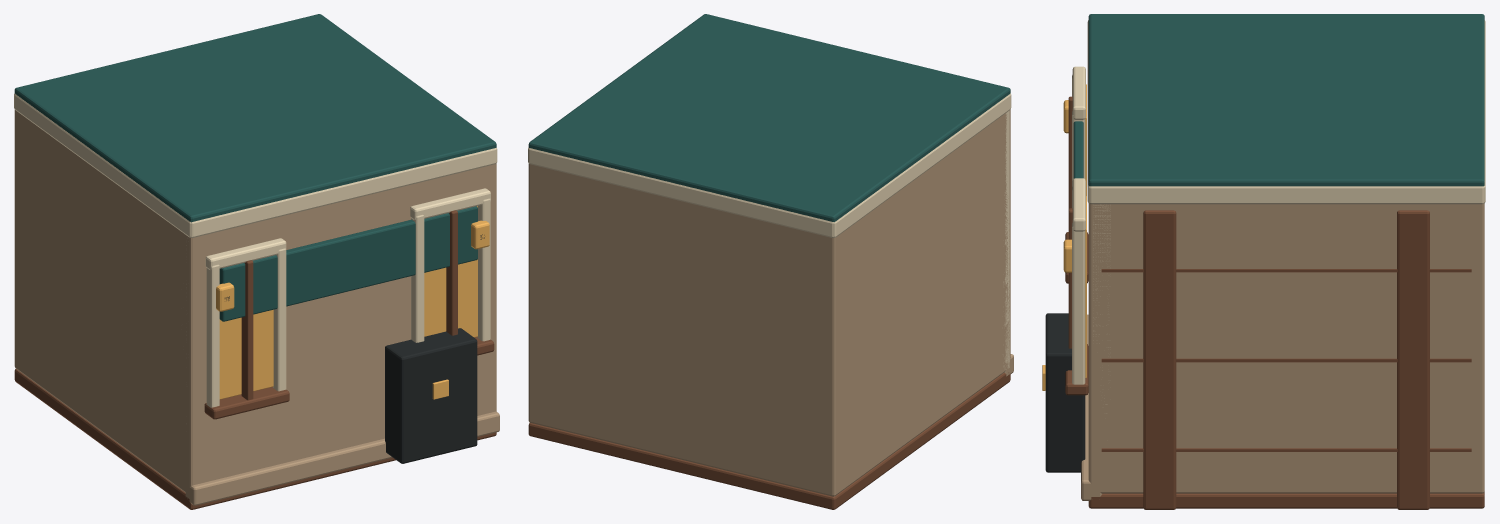
Rendered from NQ-BLD-12.glb.
The picture shows the model from 3 angles, left to right: view 1: azimuth 30°, elevation 25°; view 2: azimuth 150°, elevation 25°; view 3: azimuth 270°, elevation 25°; orthographic projection. The views are drawn at different scales.
Parts seen in each view (by area): view 1: ClosedSupportingVolume, Roof_RemoveForInteriorReview, NQ-SGN-12, ExternalRelayCabinet, CreamRoofCornice, PlinthBand, WindowGraphicProxy, Floor, CreamSideCornice, WindowGraphicProxy.001, WindowJamb, WindowJamb.001 (+7 smaller); view 2: ClosedSupportingVolume, Roof_RemoveForInteriorReview, Floor, CreamRoofCornice.001, CreamSideCornice, CornerTrim; view 3: ClosedSupportingVolume, Roof_RemoveForInteriorReview, SideBrickPilaster, SideBrickPilaster.001, CreamSideCornice.001, Floor, ExternalRelayCabinet, WindowJamb.003, SideMasonryCourse.001, SideMasonryCourse.002, SideMasonryCourse, PlinthBand (+3 smaller).
Part boxes in pixels (<box>): ClosedSupportingVolume: <box>14,110,496,494</box>; Roof_RemoveForInteriorReview: <box>14,14,496,222</box>; NQ-SGN-12: <box>219,206,477,321</box>; ExternalRelayCabinet: <box>385,328,477,463</box>; CreamRoofCornice: <box>191,148,496,237</box>; PlinthBand: <box>185,411,499,505</box>; WindowGraphicProxy: <box>219,309,273,399</box>; Floor: <box>14,369,496,509</box>; CreamSideCornice: <box>14,93,190,237</box>; WindowGraphicProxy.001: <box>424,206,477,337</box>; WindowJamb: <box>206,264,219,407</box>; WindowJamb.001: <box>273,248,286,391</box>; ClosedSupportingVolume: <box>528,110,1010,496</box>; Roof_RemoveForInteriorReview: <box>528,14,1010,222</box>; Floor: <box>528,372,1010,509</box>; CreamRoofCornice.001: <box>528,148,834,237</box>; CreamSideCornice: <box>834,93,1011,237</box>; CornerTrim: <box>1002,110,1009,373</box>; ClosedSupportingVolume: <box>1088,203,1484,493</box>; Roof_RemoveForInteriorReview: <box>1088,14,1484,186</box>; SideBrickPilaster: <box>1143,210,1176,509</box>; SideBrickPilaster.001: <box>1397,210,1429,509</box>; CreamSideCornice.001: <box>1089,186,1484,204</box>; Floor: <box>1088,492,1484,508</box>; ExternalRelayCabinet: <box>1045,313,1085,472</box>; WindowJamb.003: <box>1072,223,1085,384</box>; SideMasonryCourse.001: <box>1101,358,1471,362</box>; SideMasonryCourse.002: <box>1101,269,1471,272</box>; SideMasonryCourse: <box>1101,448,1471,451</box>; PlinthBand: <box>1081,314,1101,500</box>.
Size of the model in its own units: 12.12 by 11 by 13.42.
